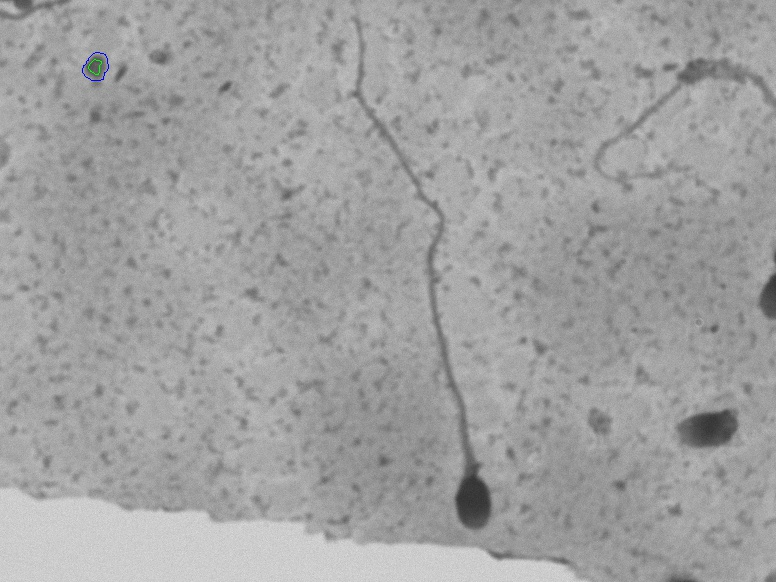Normal: (329, 7, 546, 541)
